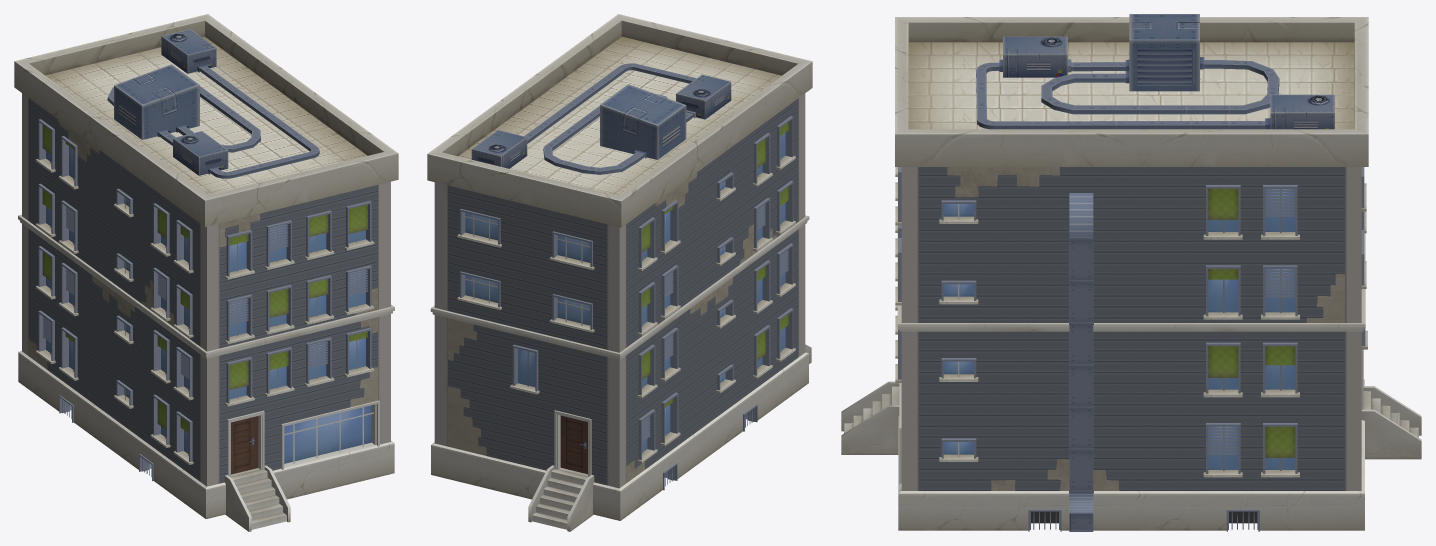
File: Building_04_2_LOD1.fbx
3 renders of one model, left to right at view 1: azimuth 30°, elevation 25°; view 2: azimuth 150°, elevation 25°; view 3: azimuth 270°, elevation 25°, orthographic. The views are drawn at different scales.
Visible parts, largest first — view 1: polySurface4169; view 2: polySurface4169; view 3: polySurface4169.
Boxes of the visible parts, x1,y1,x2,y2 form: polySurface4169: (14, 14, 398, 531); polySurface4169: (427, 14, 812, 531); polySurface4169: (841, 14, 1421, 531).
Size of the model in its own units: 865 by 1296 by 1586.
